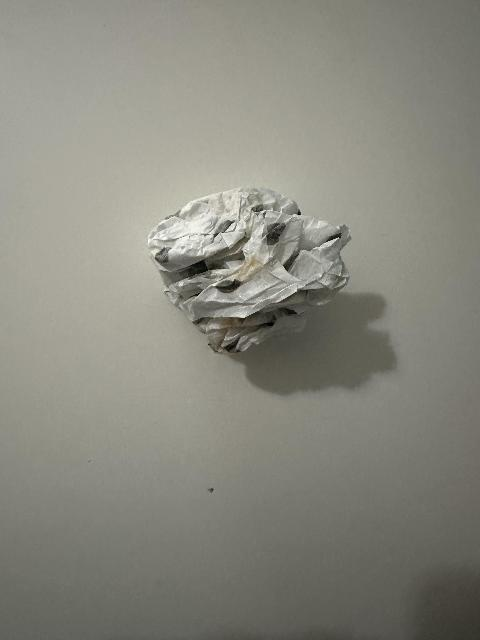Kagit: (143, 190, 357, 351)
